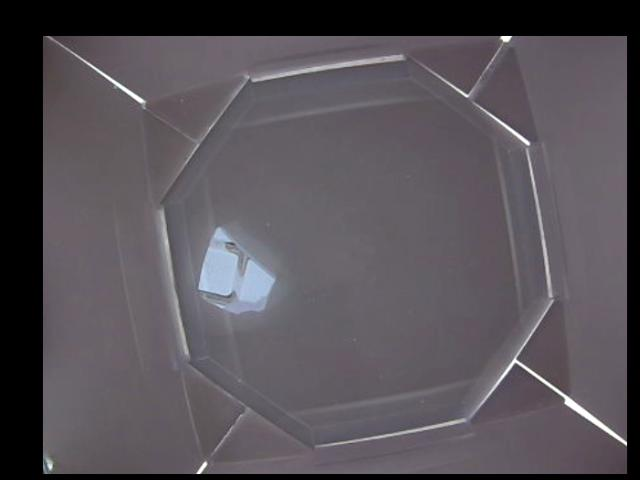China: (198, 228, 275, 315)
